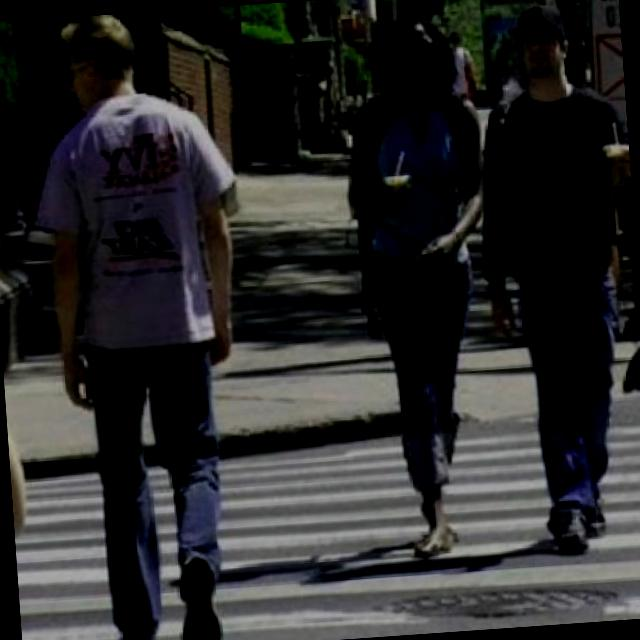Person: (28, 6, 266, 640), (468, 0, 640, 559), (334, 16, 510, 558)
